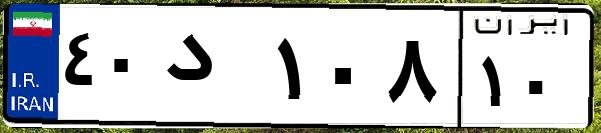0: (330, 28, 385, 110), (525, 38, 570, 115), (110, 28, 158, 98)
1: (270, 28, 330, 110), (475, 38, 525, 113)
4: (57, 26, 110, 100)
8: (385, 28, 445, 110)
د: (158, 20, 270, 120)
